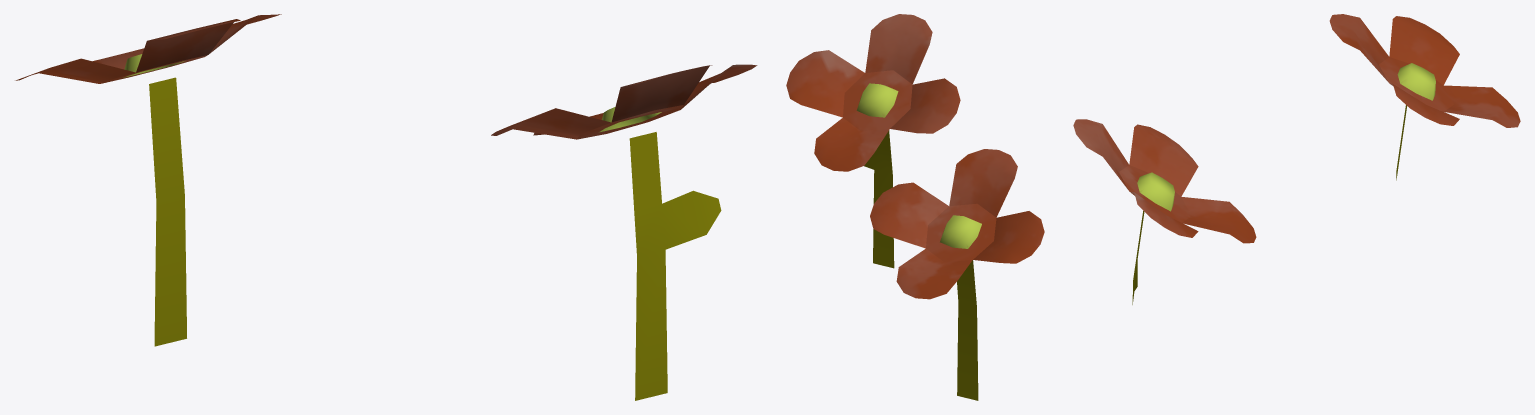
The model's file is Tall_Flower_2.fbx.
3 views of the same model, side by side, from view 1: azimuth 30°, elevation 25°; view 2: azimuth 150°, elevation 25°; view 3: azimuth 270°, elevation 25° (orthographic). The views are drawn at different scales.
Parts seen in each view (by area): view 1: Plane.011, Plane.012; view 2: Plane.012, Plane.011; view 3: Plane.012, Plane.011.
Part boxes in pixels (bbox=[...]): Plane.011: bbox=[491, 64, 757, 400]; Plane.012: bbox=[15, 14, 281, 346]; Plane.012: bbox=[870, 149, 1044, 400]; Plane.011: bbox=[786, 14, 960, 268]; Plane.012: bbox=[1329, 14, 1520, 180]; Plane.011: bbox=[1073, 119, 1256, 304].
Bounding box in the file's own units: 33.13 × 20.28 × 30.72.
